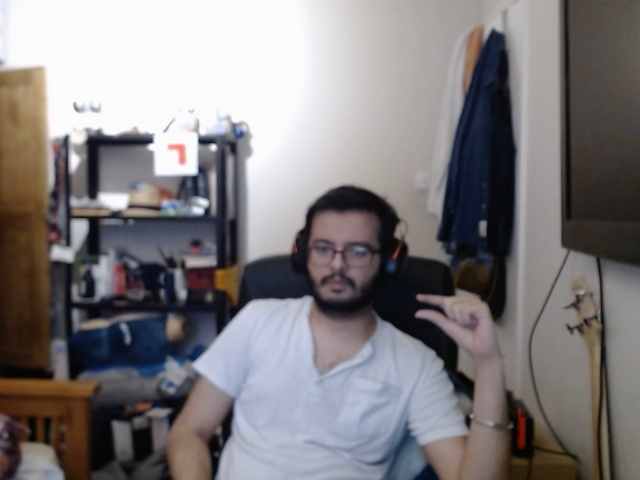Small: (412, 285, 521, 360)
